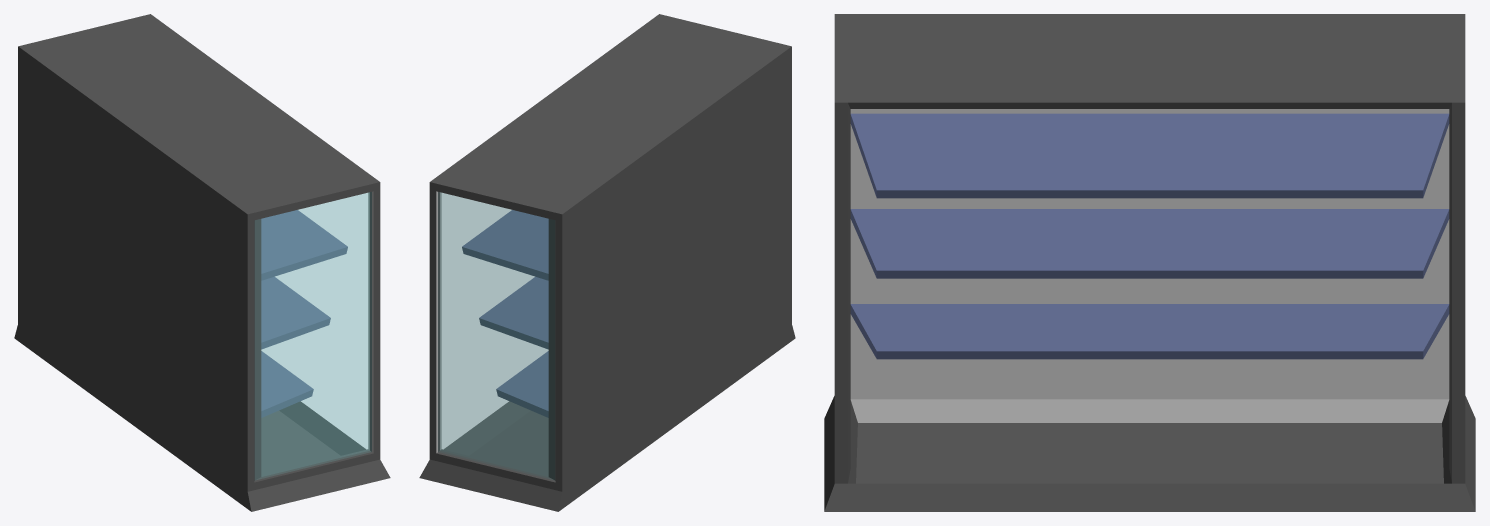
Rendered from estanteriaFria_fbx.fbx.
The picture shows the model from 3 angles, left to right: view 1: azimuth 30°, elevation 25°; view 2: azimuth 150°, elevation 25°; view 3: azimuth 270°, elevation 25°; orthographic projection. The views are drawn at different scales.
Parts seen in each view (by area): view 1: Cube; view 2: Cube; view 3: Cube.
Part boxes in pixels (x1,y1,x2,y2): Cube: (14, 14, 390, 511); Cube: (419, 14, 795, 511); Cube: (824, 14, 1475, 511).
Bounding box in the file's own units: 210 × 425 × 620.
